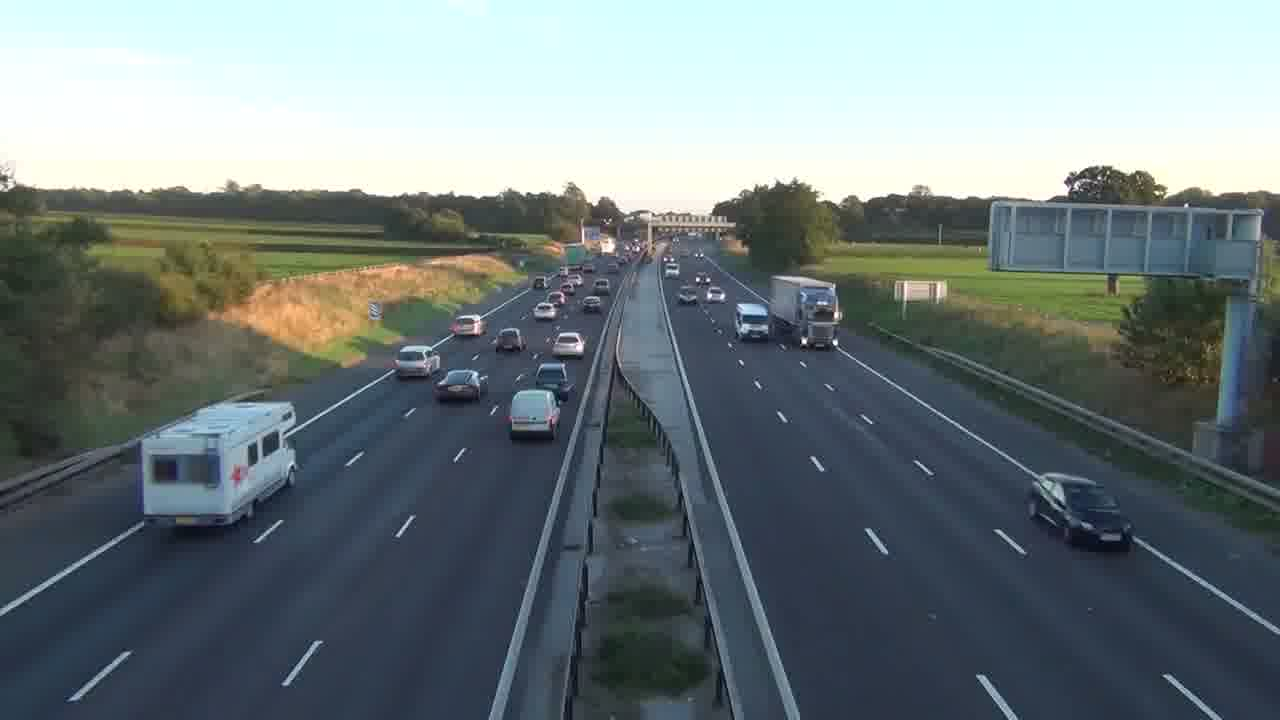bus: (140, 400, 298, 529)
car: (1025, 471, 1135, 551), (508, 388, 561, 441), (533, 360, 574, 404), (433, 368, 483, 403), (394, 343, 441, 379), (552, 331, 586, 359), (494, 327, 523, 354)
truck: (769, 274, 841, 351), (734, 302, 771, 341)
